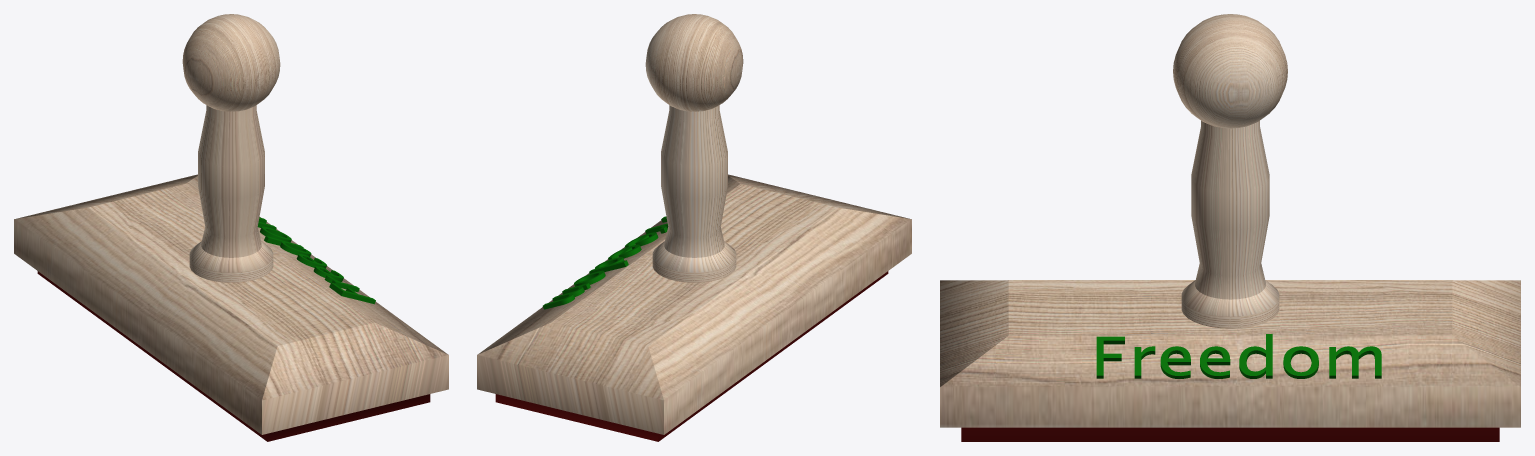
Rendered from Freedom stamp.fbx.
3 renders of one model, left to right at view 1: azimuth 30°, elevation 25°; view 2: azimuth 150°, elevation 25°; view 3: azimuth 270°, elevation 25°, orthographic. The views are drawn at different scales.
Visible parts, largest first — view 1: pSphere2; view 2: pSphere2; view 3: pSphere2.
Part boxes in pixels (x1,y1,x2,y2): pSphere2: [14, 14, 448, 441]; pSphere2: [477, 14, 911, 441]; pSphere2: [940, 14, 1520, 441].
Size of the model in its own units: 0.5275 by 0.883 by 1.21.
